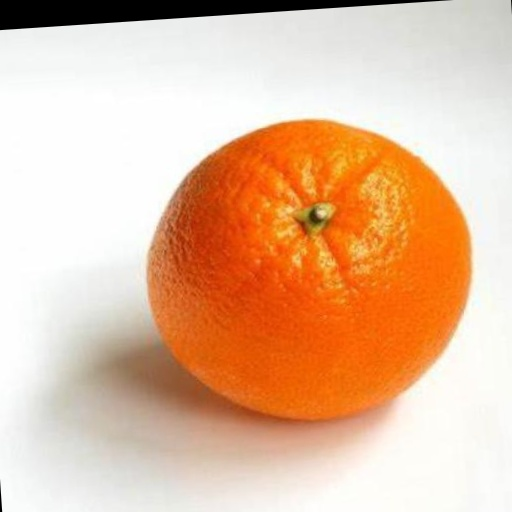fruit: (148, 120, 470, 419)
